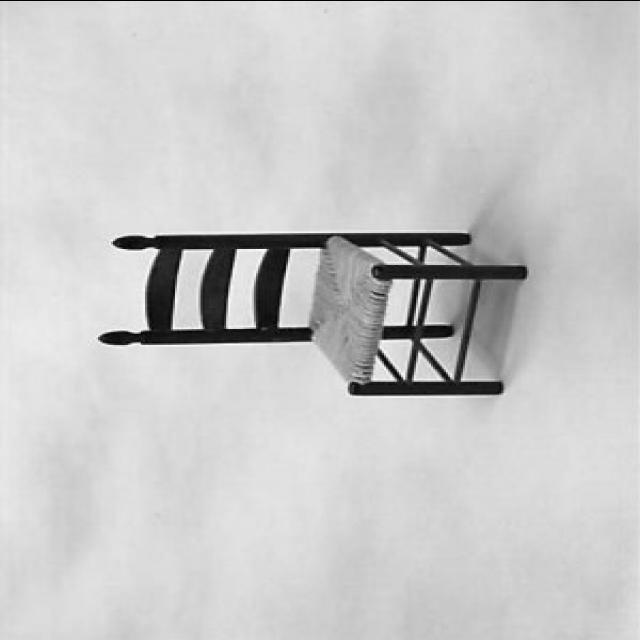chair: (94, 229, 526, 397)
